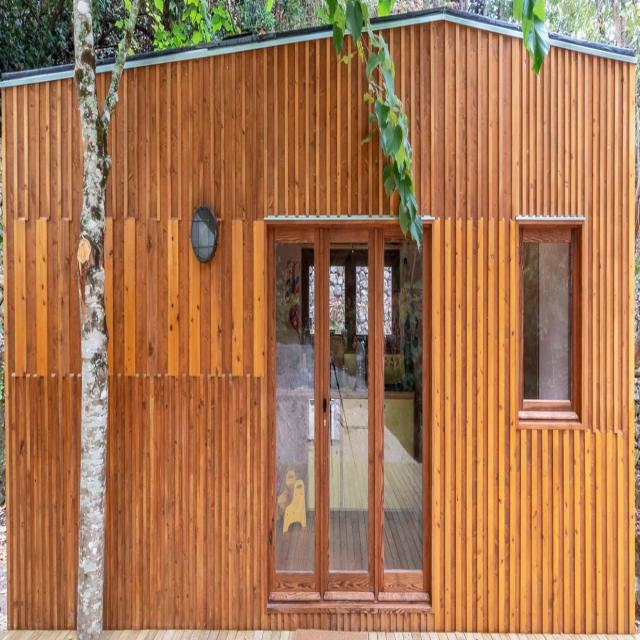door: (266, 227, 431, 602)
window: (519, 225, 578, 412)
